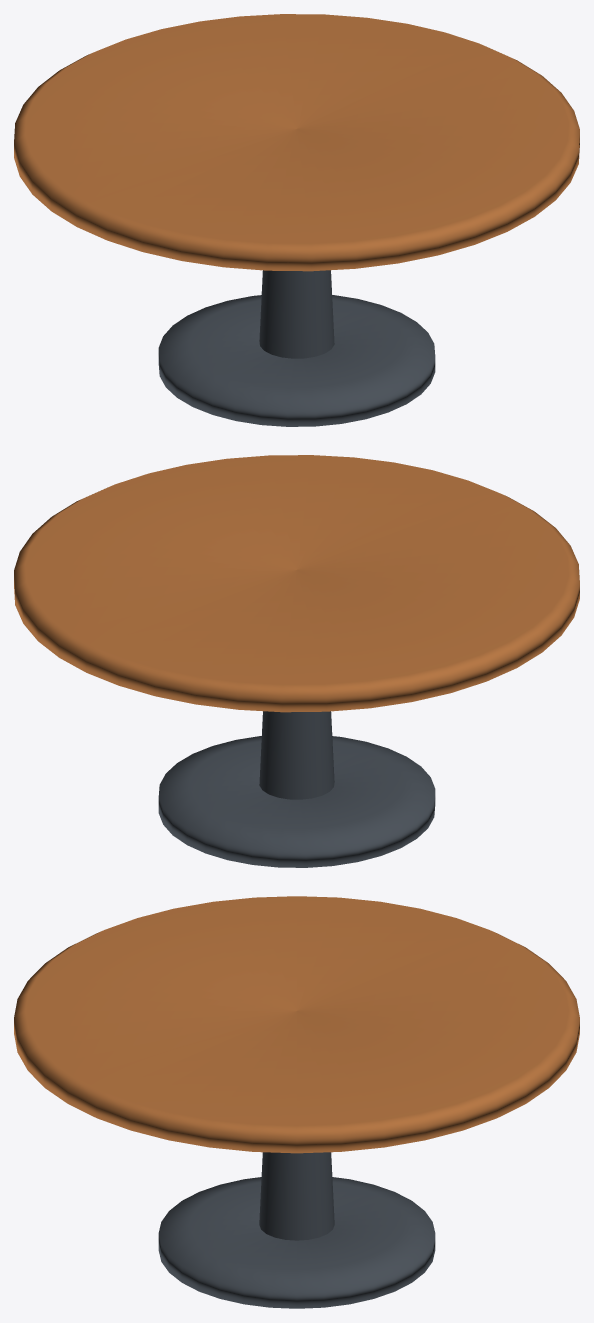
Rendered from roundcoffeetable.glb.
3 renders of one model, top to bottom at view 1: azimuth 30°, elevation 25°; view 2: azimuth 150°, elevation 25°; view 3: azimuth 270°, elevation 25°, orthographic.
Parts seen in each view (by area): view 1: material-0-top, material-2-base, material-1-body; view 2: material-0-top, material-2-base, material-1-body; view 3: material-0-top, material-2-base, material-1-body.
Boxes of the visible parts, box(x1,y1,x2,y2) form: material-0-top: box(14, 14, 579, 271); material-2-base: box(158, 295, 435, 426); material-1-body: box(259, 270, 334, 358); material-0-top: box(14, 455, 579, 712); material-2-base: box(158, 736, 435, 867); material-1-body: box(259, 711, 334, 799); material-0-top: box(14, 896, 579, 1153); material-2-base: box(158, 1177, 435, 1308); material-1-body: box(259, 1152, 334, 1240).
Size of the model in its own units: 0.9 by 0.42 by 0.9.
